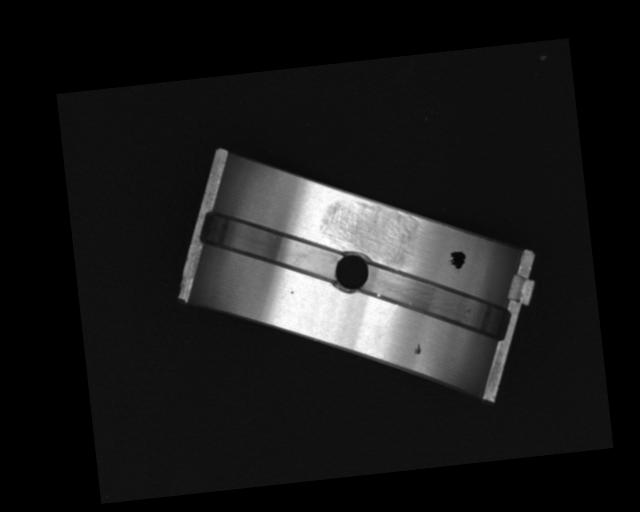blot: (447, 250, 467, 270)
bruise: (412, 342, 423, 357), (290, 290, 294, 295)
gap: (359, 247, 514, 354), (194, 196, 343, 295)
hole: (328, 248, 377, 297)
nick: (376, 304, 402, 338)
scratch: (315, 191, 426, 273)
